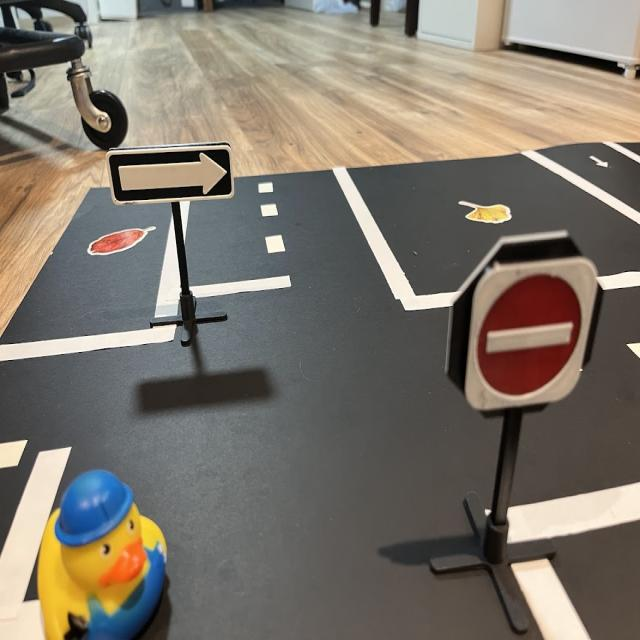duck_specialty: (36, 466, 173, 640)
sign_noentry: (468, 260, 605, 420)
sign_oneway_right: (106, 146, 238, 210)
